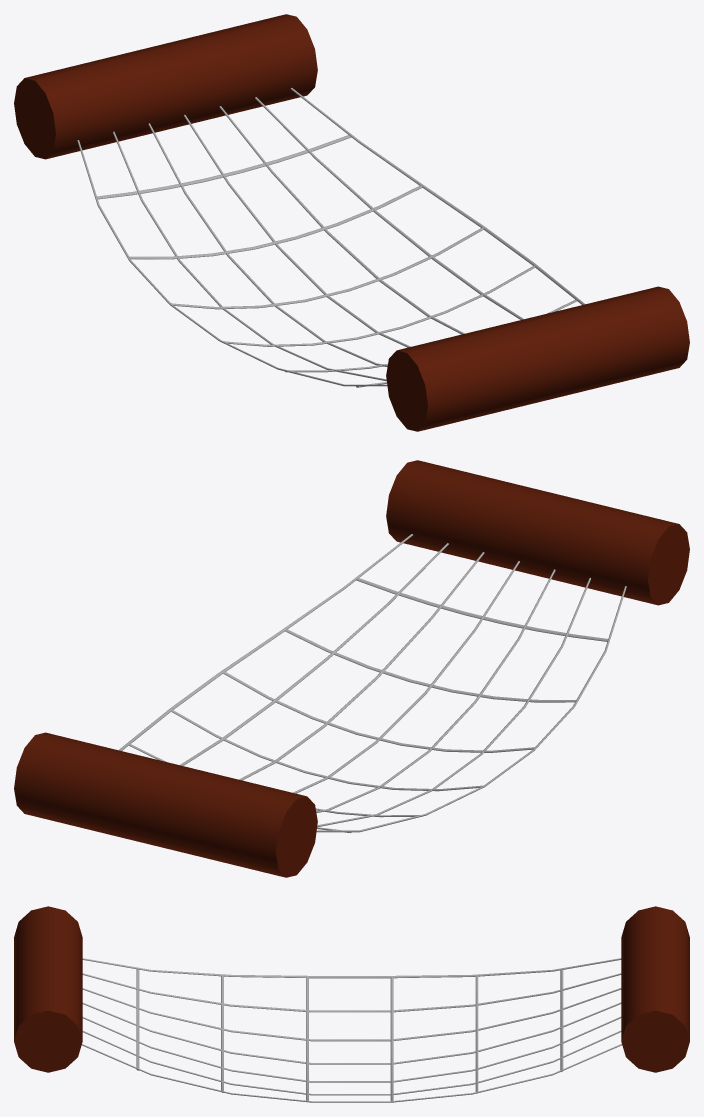
The model's file is net.fbx.
The picture shows the model from 3 angles, top to bottom: view 1: azimuth 30°, elevation 25°; view 2: azimuth 150°, elevation 25°; view 3: azimuth 270°, elevation 25°; orthographic projection. The views are drawn at different scales.
Parts seen in each view (by area): view 1: Cylinder004, Cylinder002, Cylinder003; view 2: Cylinder002, Cylinder004, Cylinder003; view 3: Cylinder003, Cylinder002, Cylinder004.
Part boxes in pixels (box(x1,y1,x2,y2)): Cylinder004: box(386, 286, 689, 431); Cylinder002: box(14, 14, 317, 159); Cylinder003: box(77, 88, 585, 387); Cylinder002: box(14, 732, 317, 877); Cylinder004: box(386, 460, 689, 605); Cylinder003: box(119, 534, 626, 833); Cylinder003: box(82, 958, 621, 1102); Cylinder002: box(621, 906, 689, 1072); Cylinder004: box(14, 906, 82, 1072).
Size of the model in its own units: 651 by 256 by 1477.
